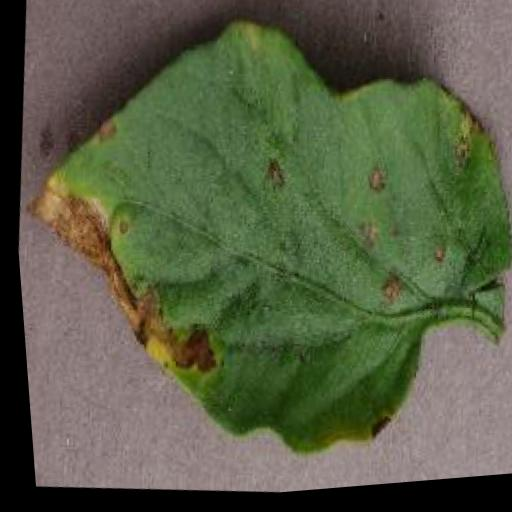Bacterial Spot: (0, 0, 512, 501)
